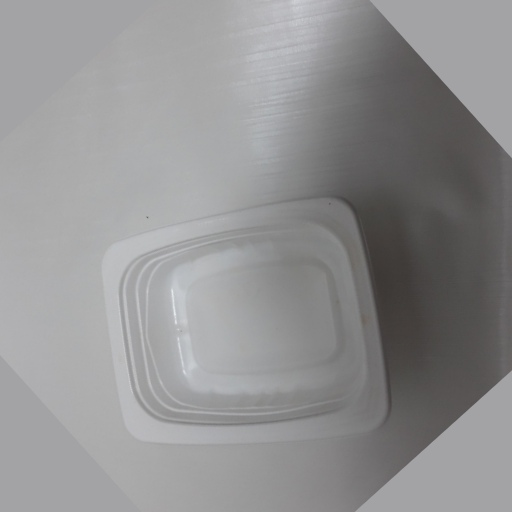Plastic_4: (99, 192, 392, 441)
